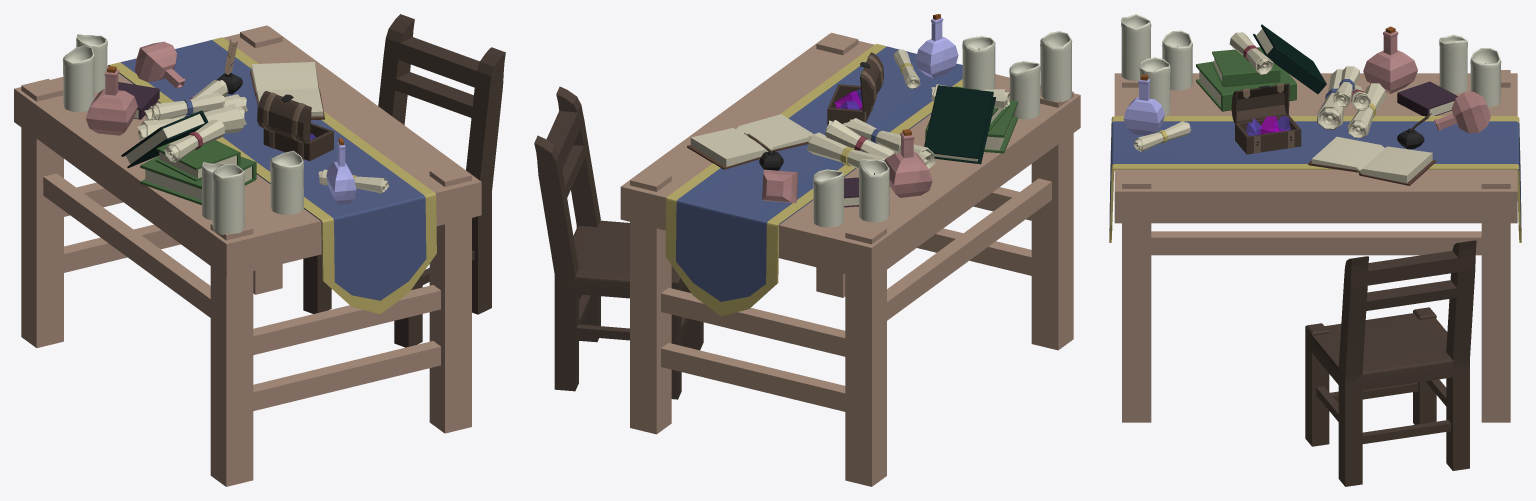
The model's file is deskRoom.fbx.
3 views of the same model, side by side, from view 1: azimuth 30°, elevation 25°; view 2: azimuth 150°, elevation 25°; view 3: azimuth 270°, elevation 25° (orthographic). The views are drawn at different scales.
Visible parts, largest first — view 1: desk, tableCloth, chair, chestOpen, bookOpen, candle10, potion23, candle11, candle9, book33, book35, book34 (+10 smaller); view 2: desk, tableCloth, chair, book35, bookOpen, candle10, chestOpen, potion23, candle9, candle11, candle8, candleq (+6 smaller); view 3: desk, chair, tableCloth, chestOpen, bookOpen, potion23, book35, candle10, book34, candle9, candle8, book33 (+11 smaller).
Boxes of the visible parts, box(x1,y1,x2,y2) form: desk: box(14, 25, 481, 486); tableCloth: box(108, 37, 436, 314); chair: box(303, 14, 505, 347); chestOpen: box(257, 91, 333, 161); bookOpen: box(250, 62, 324, 119); candle10: box(212, 164, 244, 234); potion23: box(86, 66, 137, 135); candle11: box(270, 150, 303, 214); candle9: box(62, 45, 94, 112); book33: box(140, 156, 256, 204); book35: box(121, 110, 208, 167); book34: box(155, 139, 240, 181); desk: box(620, 32, 1080, 486); tableCloth: box(665, 44, 962, 316); chair: box(534, 86, 703, 399); book35: box(924, 85, 995, 164); bookOpen: box(687, 114, 813, 169); candle10: box(1040, 31, 1072, 101); chestOpen: box(827, 52, 883, 125); potion23: box(884, 129, 932, 197); candle9: box(858, 159, 889, 222); candle11: box(962, 36, 995, 89); candle8: box(813, 169, 844, 227); candleq: box(1009, 61, 1040, 119); desk: box(1114, 70, 1517, 422); chair: box(1305, 240, 1476, 486); tableCloth: box(1109, 116, 1521, 242); chestOpen: box(1231, 83, 1301, 154); bookOpen: box(1308, 136, 1436, 185); potion23: box(1363, 26, 1417, 93); book35: box(1253, 24, 1326, 93); candle10: box(1121, 14, 1151, 81); book34: box(1212, 47, 1280, 86); candle9: box(1439, 34, 1467, 93); candle8: box(1470, 48, 1501, 107); book33: box(1196, 61, 1296, 111).
Bounding box in the file's own units: 6.4 × 4.65 × 5.9.
